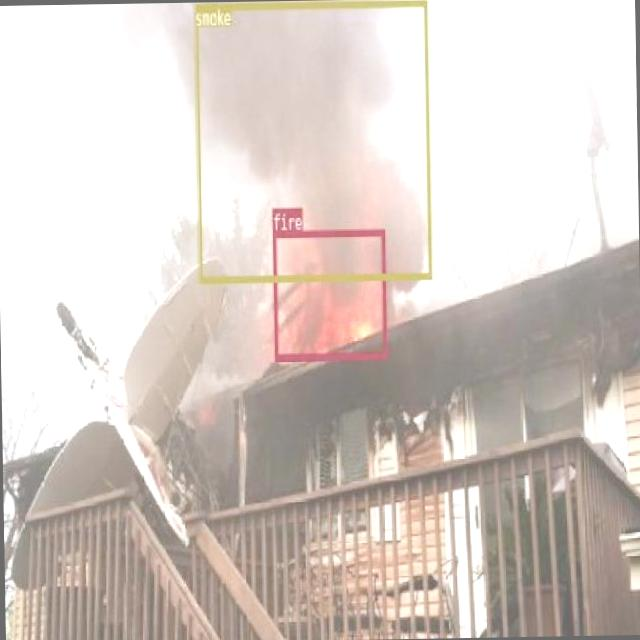fire: (271, 228, 386, 359)
smoke: (193, 0, 432, 281)
